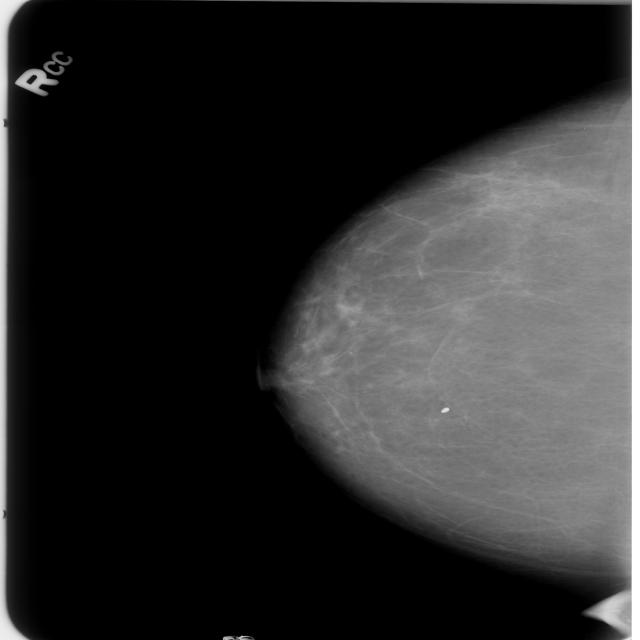normal: (263, 74, 640, 576)
